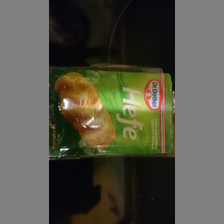cake: (49, 66, 173, 161)
